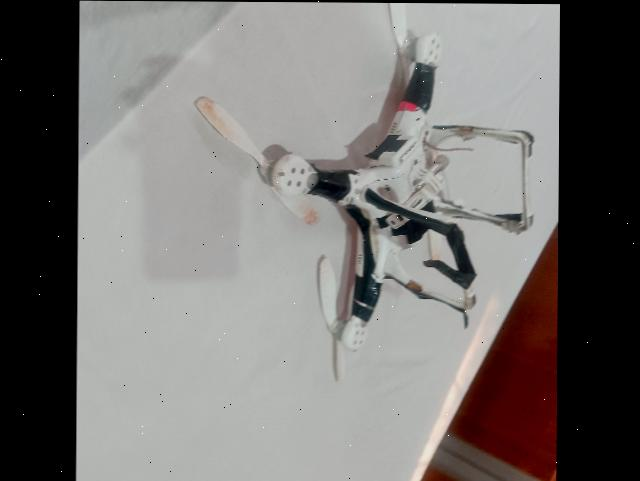drone: (251, 11, 545, 355)
